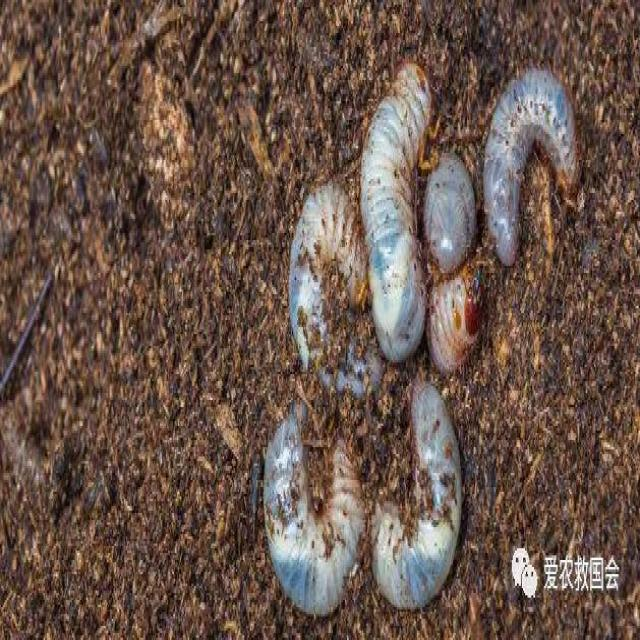Grub-Adult-: (250, 387, 364, 621), (278, 172, 385, 421), (355, 55, 437, 352), (480, 68, 589, 275), (368, 381, 458, 609)
